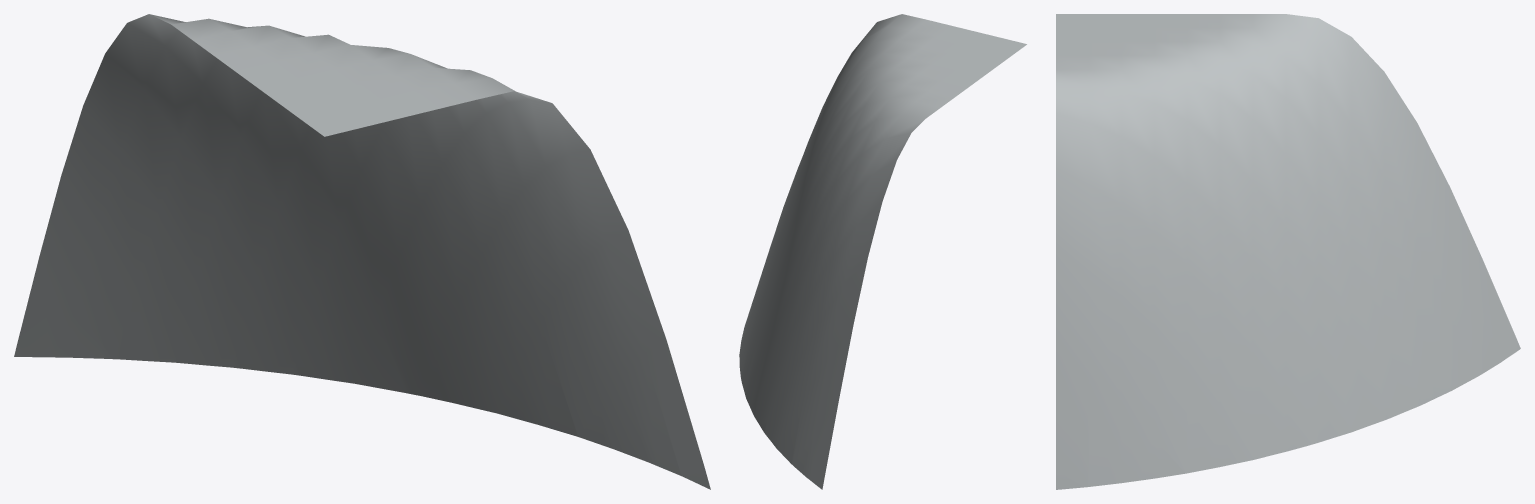
Rendered from alpine-12-2.glb.
3 views of the same model, side by side, from view 1: azimuth 30°, elevation 25°; view 2: azimuth 150°, elevation 25°; view 3: azimuth 270°, elevation 25° (orthographic). The views are drawn at different scales.
Parts seen in each view (by area): view 1: alpine-12-2; view 2: alpine-12-2; view 3: alpine-12-2.
Part boxes in pixels (x1,y1,x2,y2): alpine-12-2: [14, 14, 710, 489]; alpine-12-2: [739, 14, 1026, 489]; alpine-12-2: [1056, 14, 1520, 489].
Bounding box in the file's own units: 81.35 × 90 × 113.
Materials: 1 (1 with a texture image).
